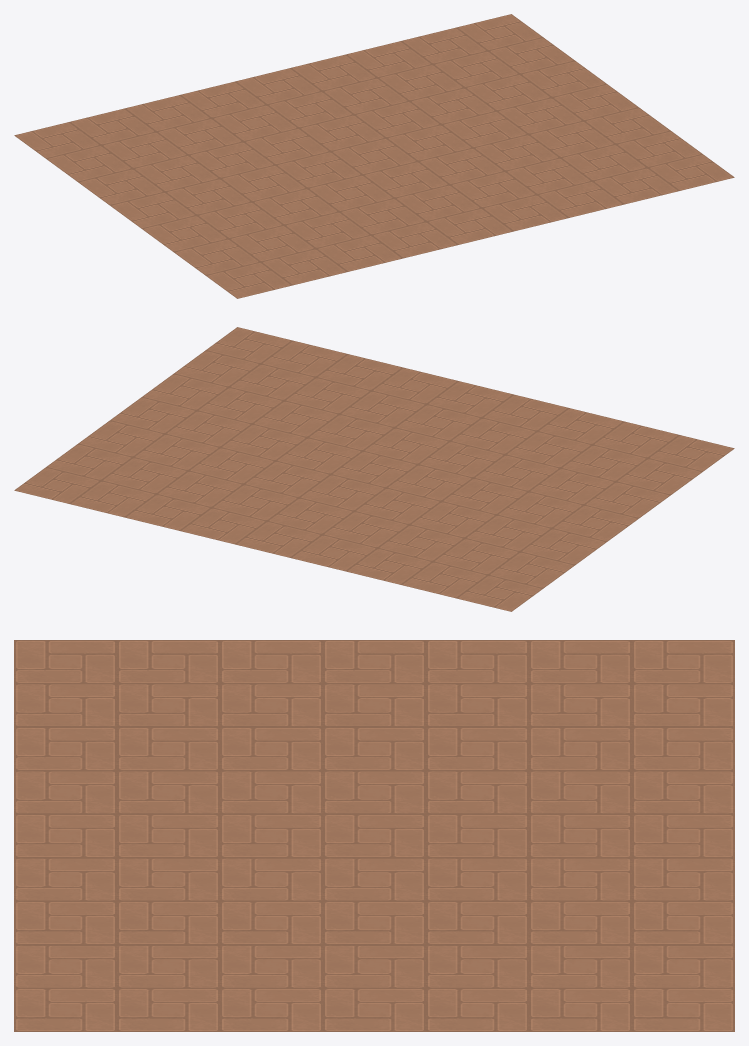
File: retail-floor.glb
3 renders of one model, top to bottom at view 1: azimuth 30°, elevation 25°; view 2: azimuth 150°, elevation 25°; view 3: azimuth 270°, elevation 25°, orthographic. The views are drawn at different scales.
Visible parts, largest first — view 1: floor-wood; view 2: floor-wood; view 3: floor-wood.
Part boxes in pixels (x1,y1,x2,y2): floor-wood: (14,14,734,298); floor-wood: (14,327,734,611); floor-wood: (14,640,734,1031).
Size of the model in its own units: 9 by 0 by 7.
1 material, 1 textured.
